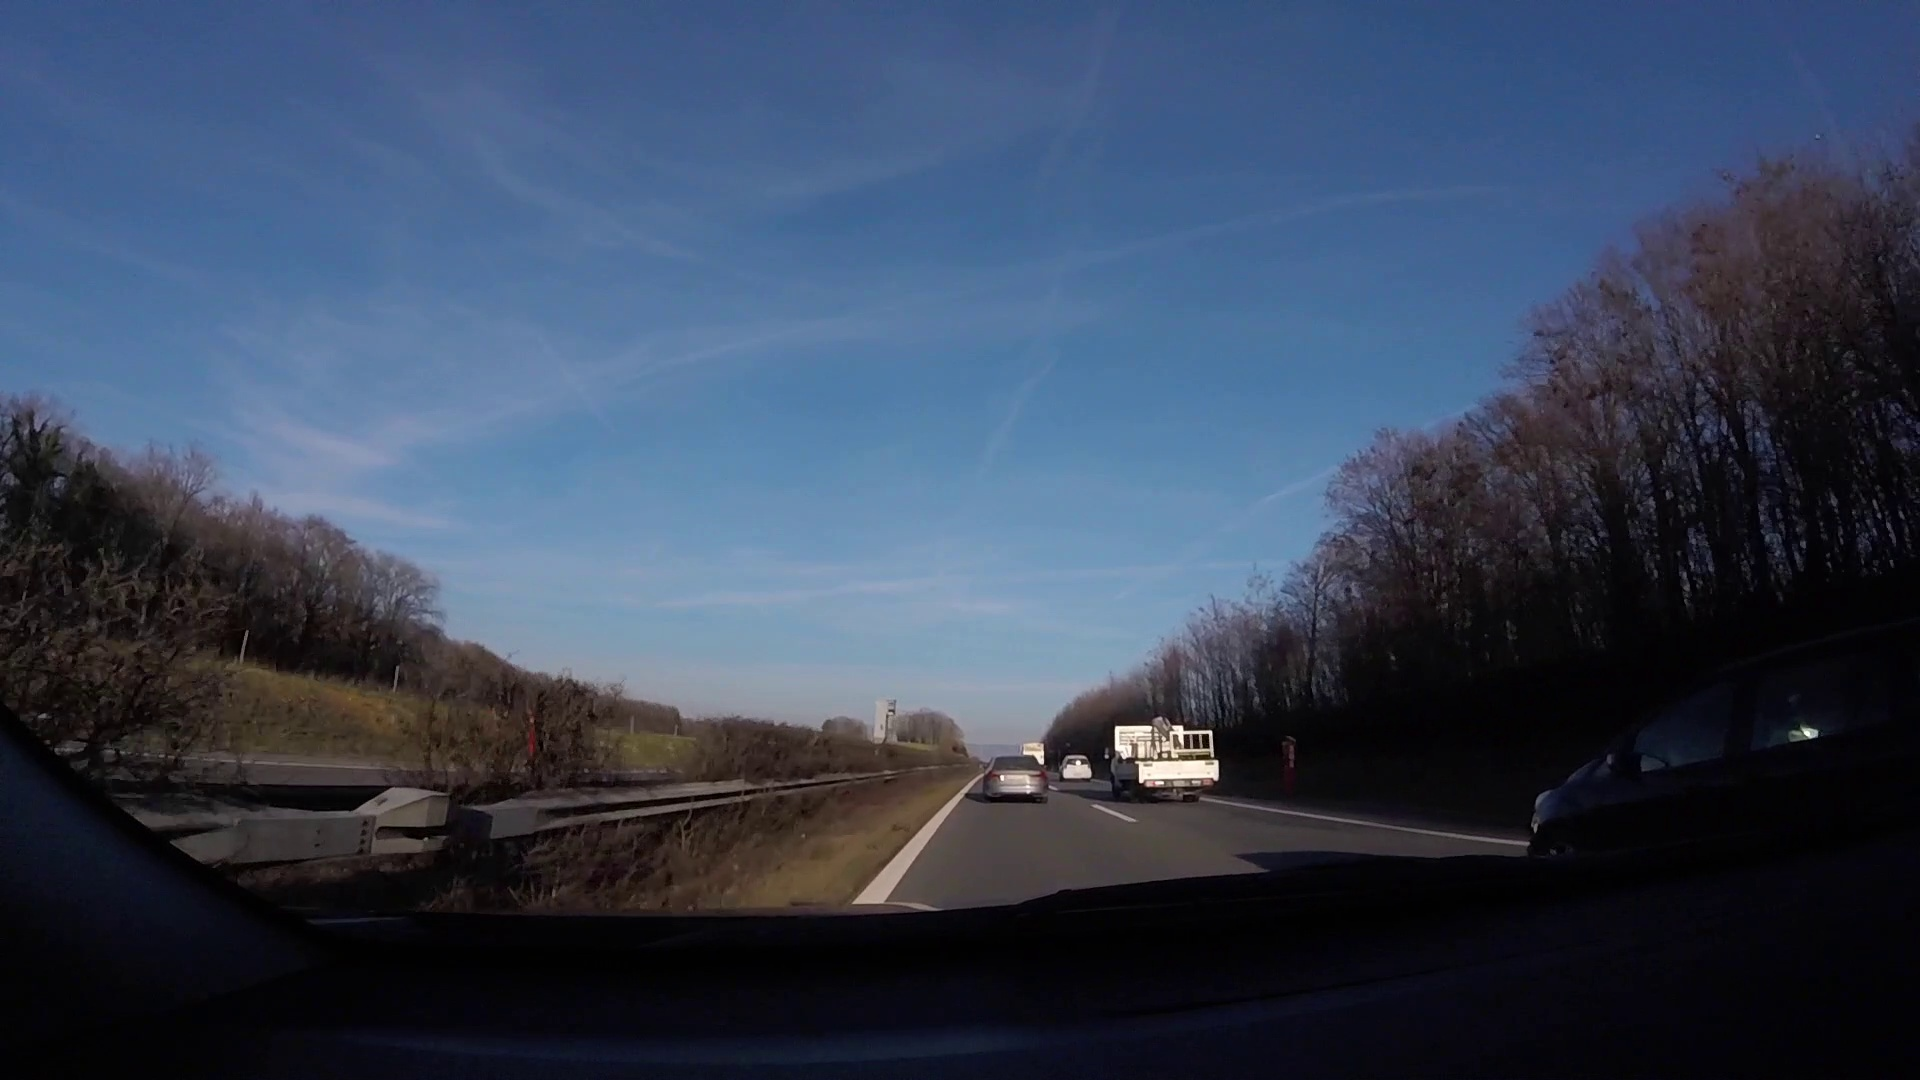radar: (872, 698, 899, 750)
